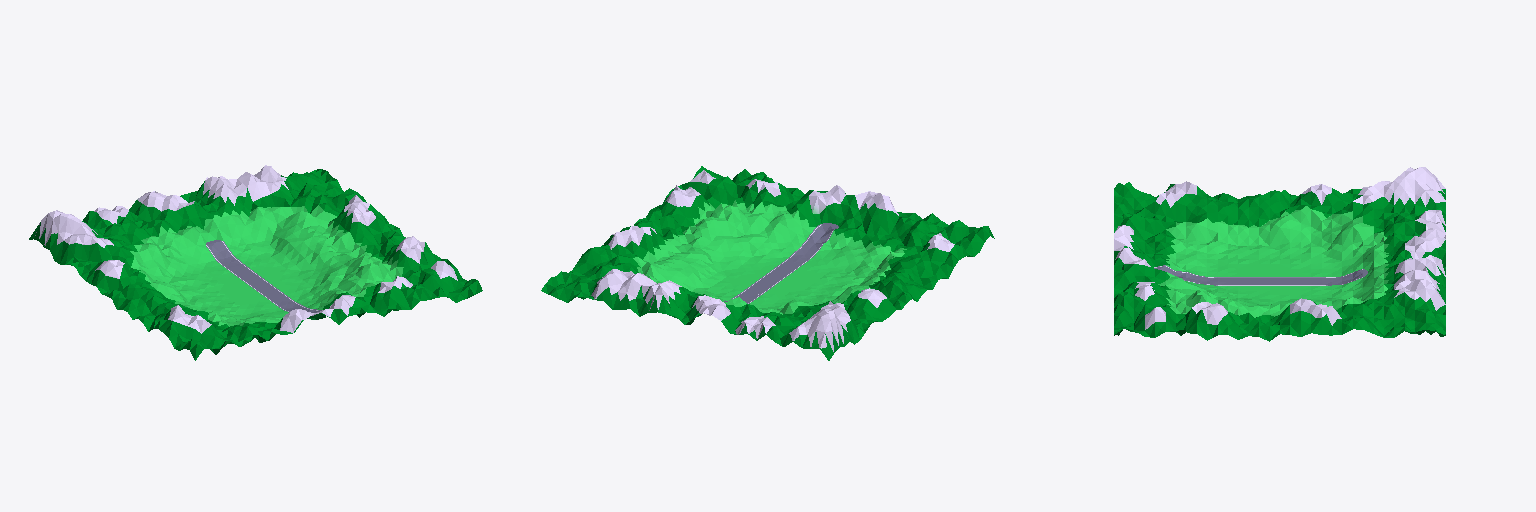
The picture shows the model from 3 angles: view 1: azimuth 30°, elevation 25°; view 2: azimuth 150°, elevation 25°; view 3: azimuth 270°, elevation 25°; orthographic projection.
Visible parts, largest first — view 1: Plane.001_Plane; view 2: Plane.001_Plane; view 3: Plane.001_Plane.
Part boxes in pixels (x1,y1,x2,y2): Plane.001_Plane: (29, 165, 482, 360); Plane.001_Plane: (541, 166, 994, 360); Plane.001_Plane: (1114, 167, 1445, 341).
Bounding box in the file's own units: 1024 × 175 × 1024.
Materials: 1 (1 with a texture image).